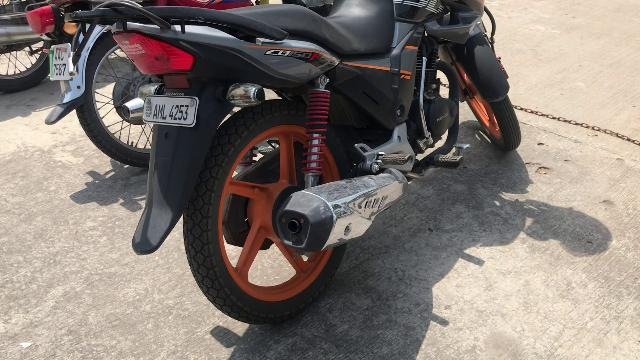plate: (142, 95, 198, 127)
